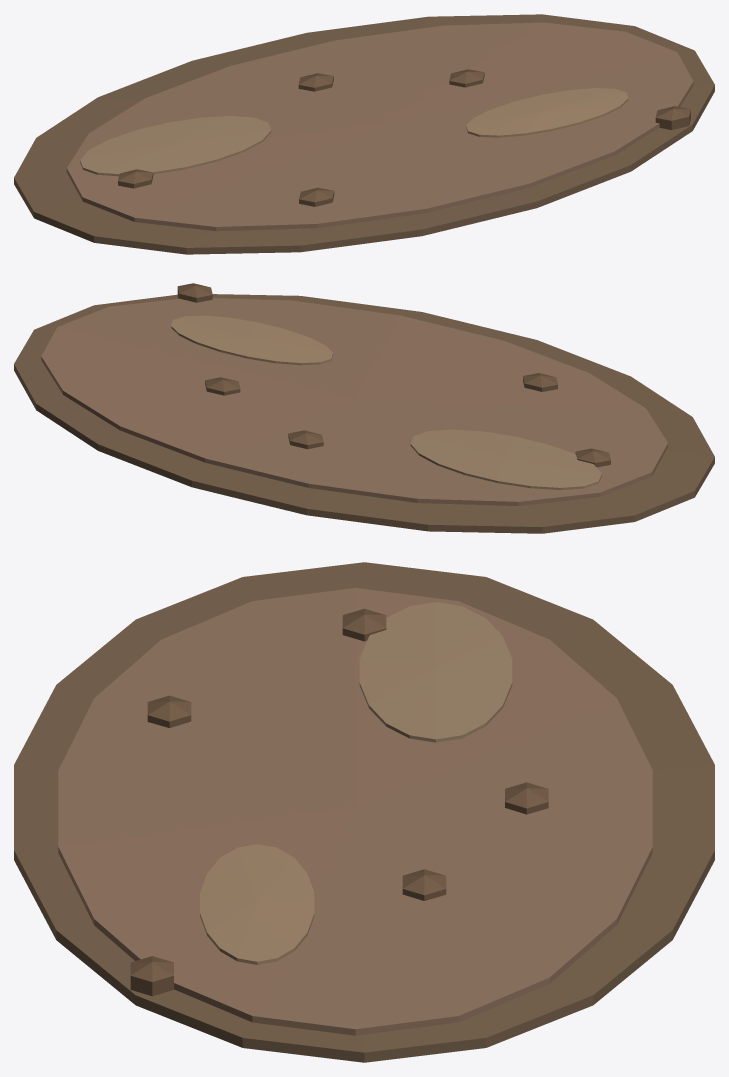
File: mud-puddle.glb
The picture shows the model from 3 angles, top to bottom: view 1: azimuth 30°, elevation 25°; view 2: azimuth 150°, elevation 25°; view 3: azimuth 270°, elevation 25°; orthographic projection. The views are drawn at different scales.
Parts seen in each view (by area): view 1: mud-puddle_mesh; view 2: mud-puddle_mesh; view 3: mud-puddle_mesh.
Part boxes in pixels (x1,y1,x2,y2): mud-puddle_mesh: [14, 14, 714, 254]; mud-puddle_mesh: [14, 283, 714, 533]; mud-puddle_mesh: [14, 562, 714, 1062].
Bounding box in the file's own units: 2.6 × 0.094 × 1.57.
